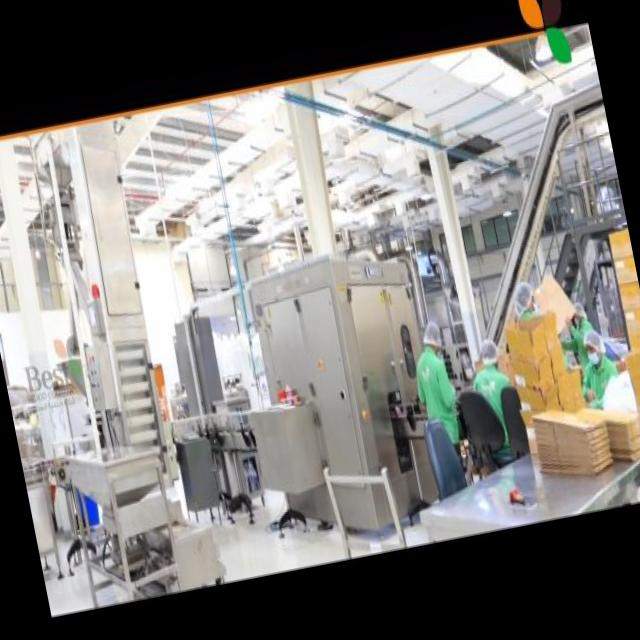hairnet: (509, 280, 536, 318), (580, 326, 604, 356), (422, 320, 444, 350), (478, 338, 500, 368), (571, 301, 587, 322)
